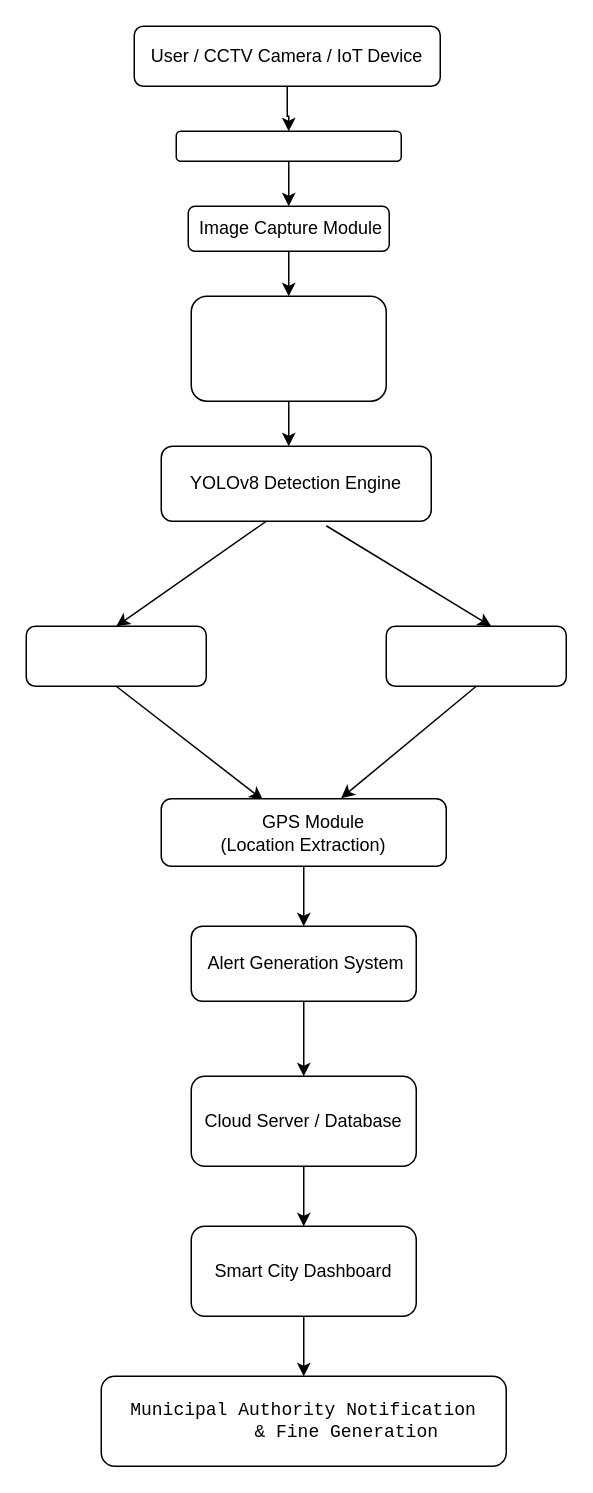
The diagram is 593 pixels wide and 1493 high, and some of its shapes have lost their labels. The box of each missing label's shape, as (x1, y1, x2, y2) in pixels:
Image Preprocessing (Resize & Enhancement): (190, 295, 386, 401)
Mobile Application: (175, 130, 401, 161)
Pothole Detection: (25, 625, 206, 686)
Waste Detection: (385, 625, 566, 686)
